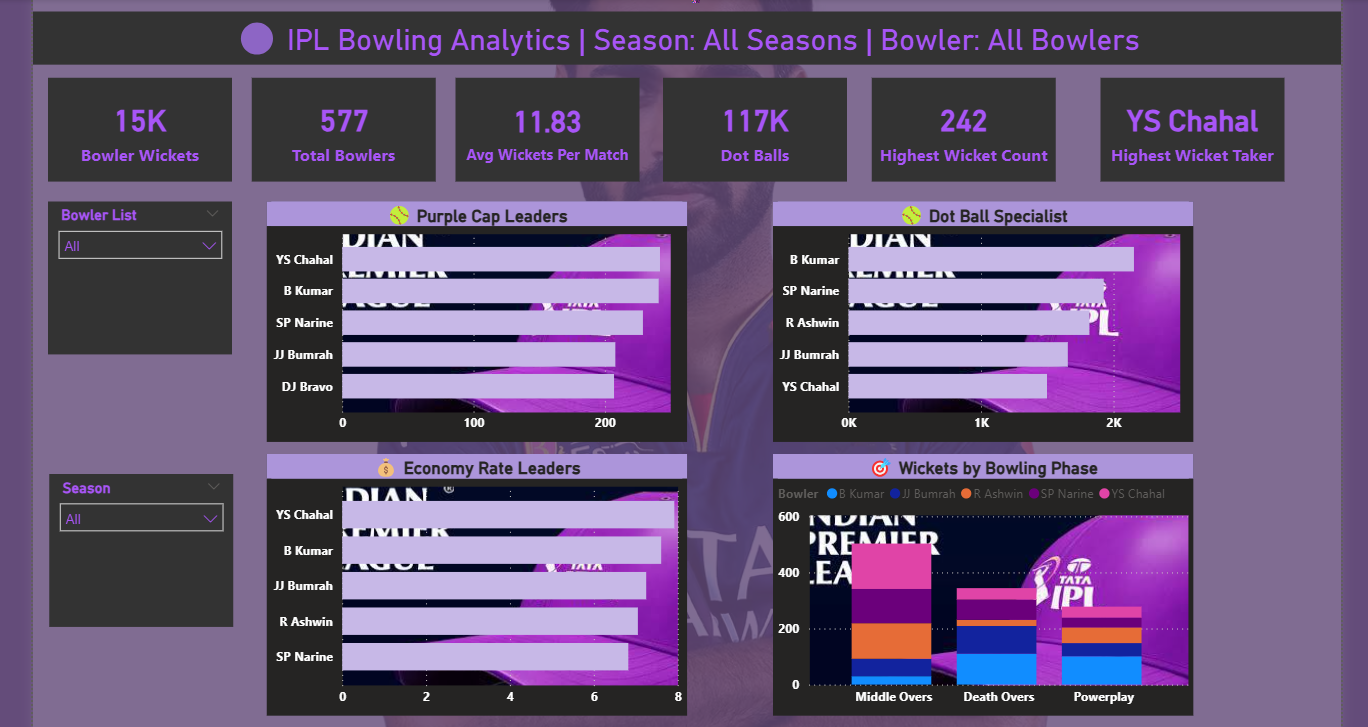

The dashboard page shown, as its layout file describes it:
{"tool":"powerbi","page":{"name":"Bowlers Analytics","canvas":[1280,720],"ordinal":2},"visuals":[{"type":"clusteredBarChart","title":"🥎 Purple Cap Leaders","fields":{"Y":["Fact_BallbyBall.Bowler Wickets"],"Category":["Fact_BallbyBall.Bowler"]},"box":[228.3,198,411.2,235.2],"z":0},{"type":"card","fields":{"Values":["Fact_BallbyBall.Bowler Wickets"]},"box":[15.1,77,180.1,101.8],"z":1000},{"type":"card","fields":{"Values":["Fact_BallbyBall.Total Bowlers"]},"box":[214.5,77,180.1,101.8],"z":2000},{"type":"card","fields":{"Values":["Fact_BallbyBall.Avg Wickets Per Match"]},"box":[413.9,77,180.1,101.8],"z":3000},{"type":"card","fields":{"Values":["Fact_BallbyBall.Highest Wicket Count"]},"box":[821,77,180.1,101.8],"z":4000},{"type":"card","fields":{"Values":["Fact_BallbyBall.Dot Balls"]},"box":[616.1,77,180.1,101.8],"z":5000},{"type":"card","fields":{"Values":["Fact_BallbyBall.Highest Wicket Taker"]},"box":[1043.8,77,180.1,101.8],"z":6000},{"type":"slicer","fields":{"Values":["Fact_BallbyBall.Bowler"]},"box":[15.1,198,180.1,149.9],"z":7000},{"type":"slicer","fields":{"Values":["Fact_Match.Season"]},"box":[16.5,464.8,180.1,149.9],"z":8000},{"type":"clusteredBarChart","title":"🥎 Dot Ball Specialist","fields":{"Category":["Fact_BallbyBall.Bowler"],"Y":["Fact_BallbyBall.Dot Balls Bowled"]},"box":[723.3,198,411.2,235.2],"z":9000},{"type":"clusteredBarChart","title":"💰 Economy Rate Leaders","fields":{"Category":["Fact_BallbyBall.Bowler"],"Y":["Fact_BallbyBall.Economy Rate"]},"box":[228.3,445.6,411.2,255.8],"z":10000},{"type":"columnChart","title":"🎯 Wickets by Bowling Phase","fields":{"Category":["Fact_BallbyBall.Bowling Phase"],"Y":["Fact_BallbyBall.Bowler Wickets"],"Series":["Fact_BallbyBall.Bowler"]},"box":[723.3,445.6,411.2,255.8],"z":11000},{"type":"card","fields":{"Values":["Fact_Match.Bowling Dashboard Title"]},"box":[0,12.4,1280.3,52.3],"z":12000}]}

Visuals, with their boxes on the page's 1280x720 design canvas (x1, y1, x2, y2). These are canvas units, not pixel positions in the 1368x727 screenshot, which may show the page scaled, cropped or inside an application window:
"🥎 Purple Cap Leaders" clusteredBarChart: select_region(228, 198, 640, 433)
card - Fact_BallbyBall.Bowler Wickets: select_region(15, 77, 195, 179)
card - Fact_BallbyBall.Total Bowlers: select_region(214, 77, 395, 179)
card - Fact_BallbyBall.Avg Wickets Per Match: select_region(414, 77, 594, 179)
card - Fact_BallbyBall.Highest Wicket Count: select_region(821, 77, 1001, 179)
card - Fact_BallbyBall.Dot Balls: select_region(616, 77, 796, 179)
card - Fact_BallbyBall.Highest Wicket Taker: select_region(1044, 77, 1224, 179)
slicer - Fact_BallbyBall.Bowler: select_region(15, 198, 195, 348)
slicer - Fact_Match.Season: select_region(16, 465, 197, 615)
"🥎 Dot Ball Specialist" clusteredBarChart: select_region(723, 198, 1134, 433)
"💰 Economy Rate Leaders" clusteredBarChart: select_region(228, 446, 640, 701)
"🎯 Wickets by Bowling Phase" columnChart: select_region(723, 446, 1134, 701)
card - Fact_Match.Bowling Dashboard Title: select_region(0, 12, 1280, 65)
